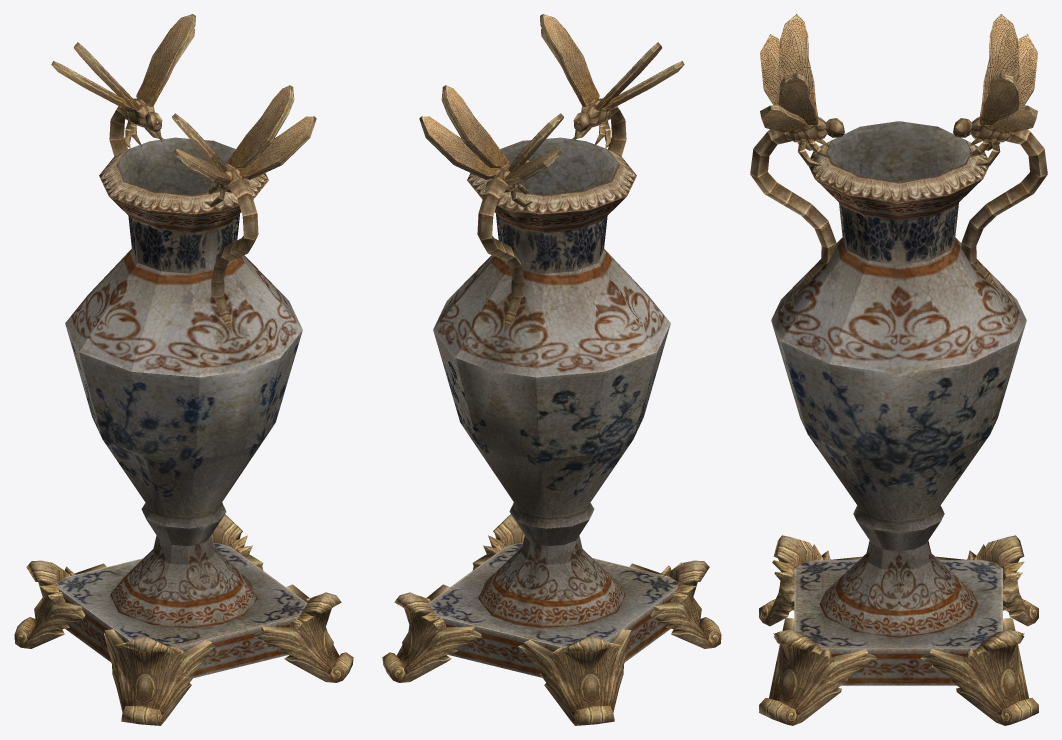
The model's file is bg_lut_lucastle_decoprop02a_sm_bjh.FBX.
3 views of the same model, side by side, from view 1: azimuth 30°, elevation 25°; view 2: azimuth 150°, elevation 25°; view 3: azimuth 270°, elevation 25° (orthographic). The views are drawn at different scales.
Visible parts, largest first — view 1: bg_lut_lucastle_decoprop02a_sm_bjh; view 2: bg_lut_lucastle_decoprop02a_sm_bjh; view 3: bg_lut_lucastle_decoprop02a_sm_bjh.
Boxes of the visible parts, <box> form: bg_lut_lucastle_decoprop02a_sm_bjh: <box>14,14,353,725</box>; bg_lut_lucastle_decoprop02a_sm_bjh: <box>382,14,721,725</box>; bg_lut_lucastle_decoprop02a_sm_bjh: <box>750,14,1047,725</box>.
Size of the model in its own units: 72.96 by 179 by 77.16.
